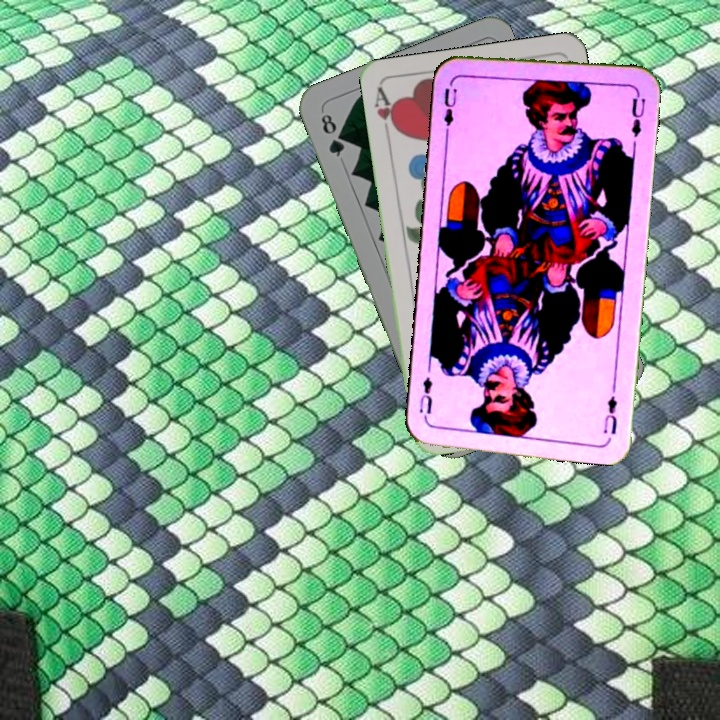EU: (600, 391, 623, 437), (439, 84, 459, 128)
G8: (316, 109, 347, 160)
HA: (370, 84, 401, 143)
